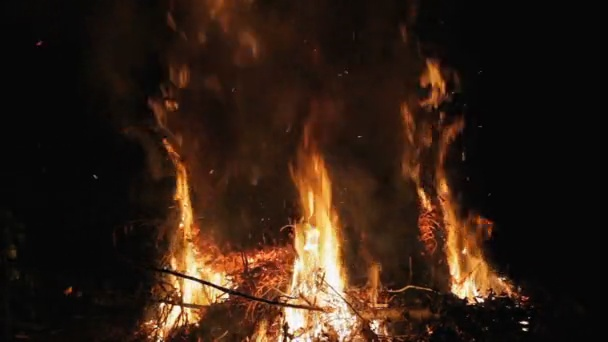fire: (156, 172, 231, 328), (289, 165, 354, 342), (445, 215, 489, 301), (422, 69, 445, 108)
